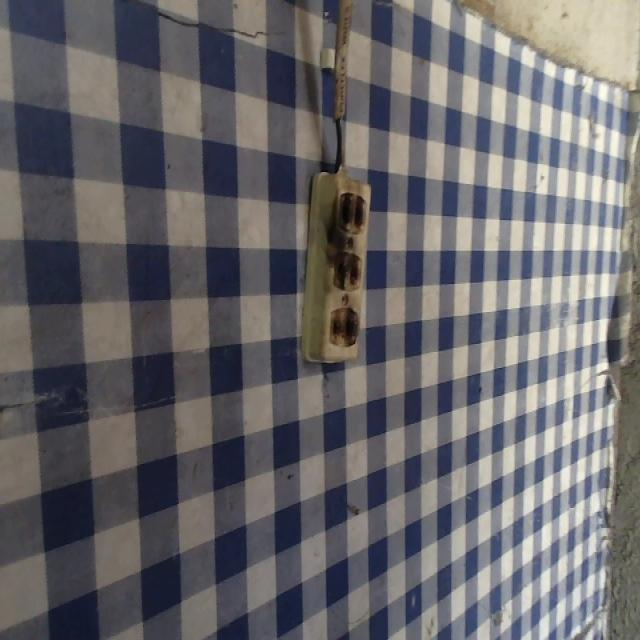-: (317, 245, 366, 298), (328, 187, 370, 240), (326, 301, 366, 352)
